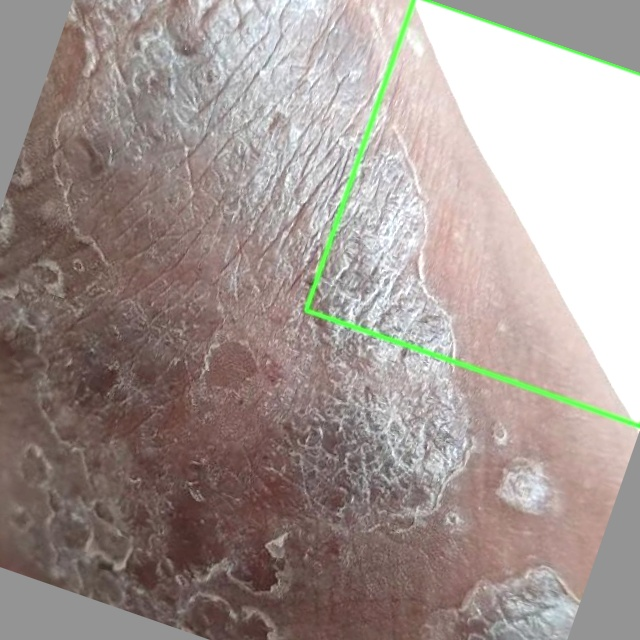Contact Dermatitis: (306, 0, 639, 425)
